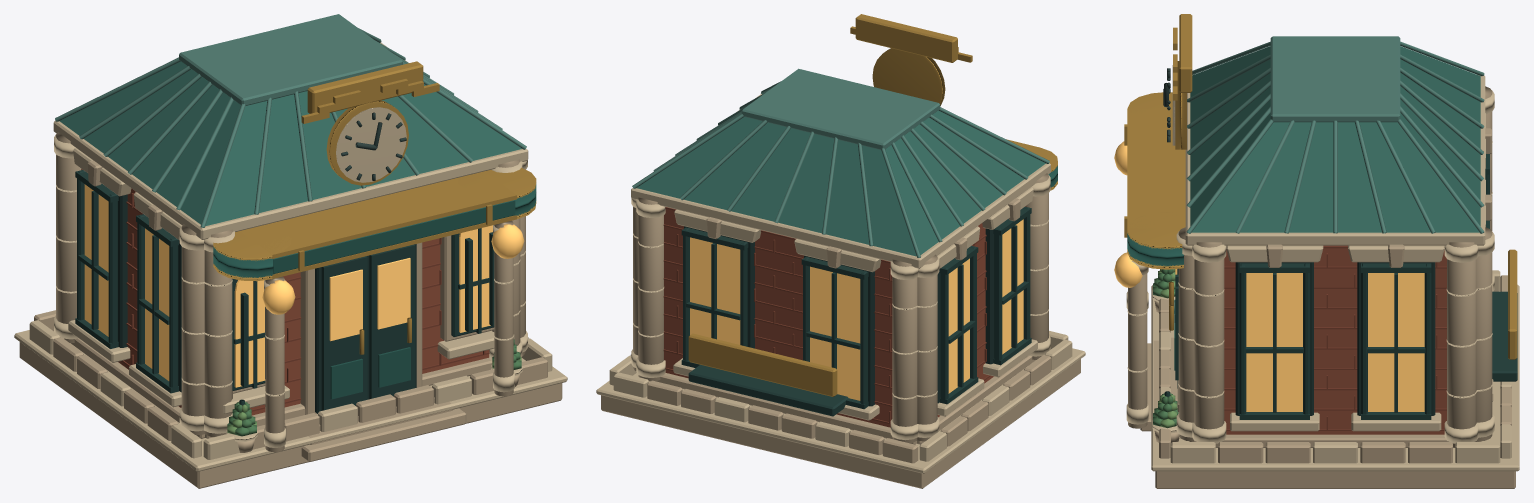
3 renders of one model, left to right at view 1: azimuth 30°, elevation 25°; view 2: azimuth 150°, elevation 25°; view 3: azimuth 270°, elevation 25°, orthographic. The views are drawn at different scales.
Visible parts, largest first — view 1: expansion_rush_station_geometry; view 2: expansion_rush_station_geometry; view 3: expansion_rush_station_geometry.
Boxes of the visible parts, x1,y1,x2,y2 form: expansion_rush_station_geometry: (14,14,567,488); expansion_rush_station_geometry: (596,14,1085,488); expansion_rush_station_geometry: (1114,14,1519,488).
Bounding box in the file's own units: 1.04 × 0.9583 × 0.9787.
